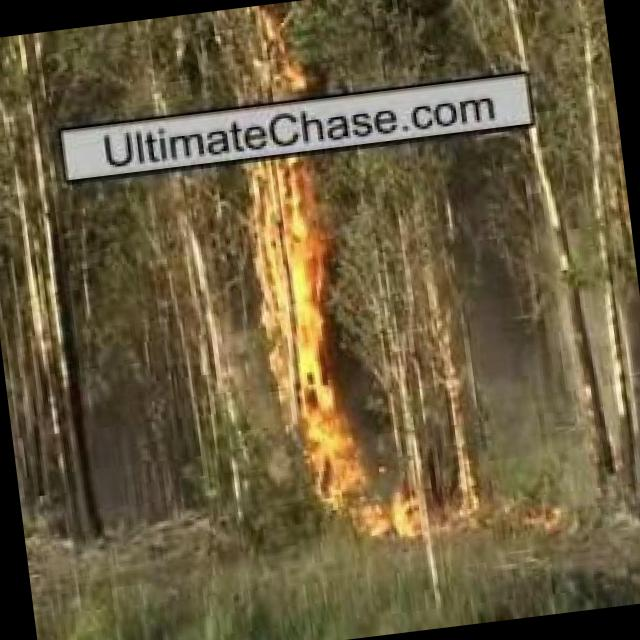Fire: (248, 160, 344, 436), (304, 435, 444, 563), (256, 9, 306, 100)
